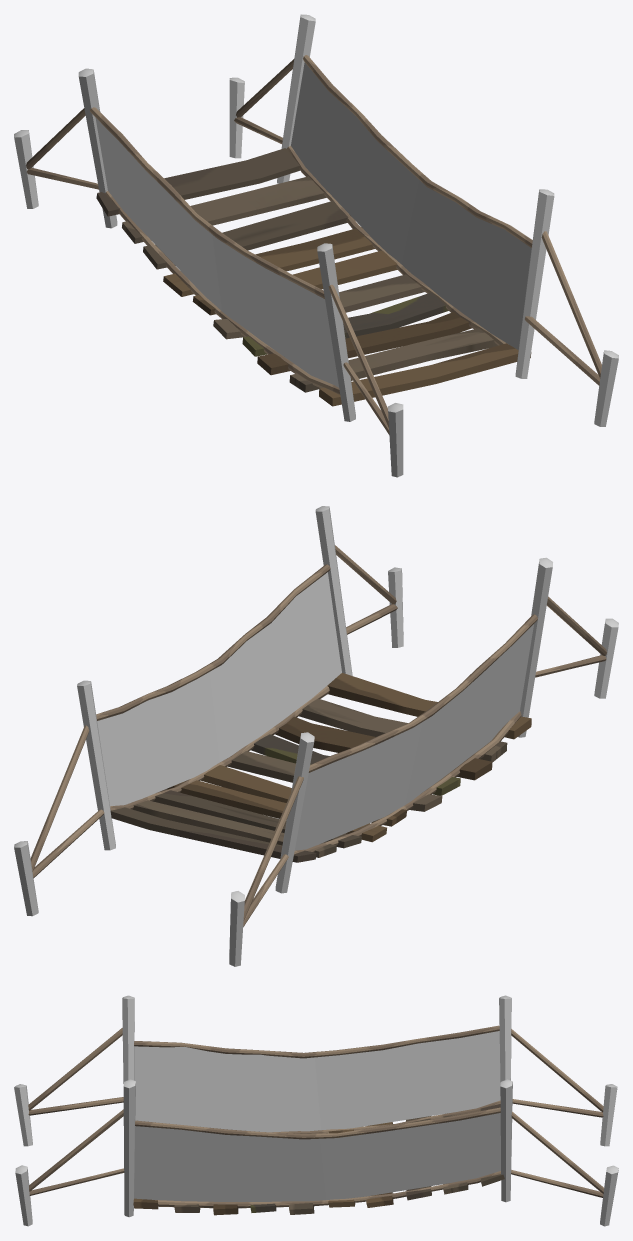
The model's file is SM_Bld_Ropebridge_04.fbx.
3 renders of one model, top to bottom at view 1: azimuth 30°, elevation 25°; view 2: azimuth 150°, elevation 25°; view 3: azimuth 270°, elevation 25°, orthographic. The views are drawn at different scales.
Parts seen in each view (by area): view 1: SM_Bld_Ropebridge_04; view 2: SM_Bld_Ropebridge_04; view 3: SM_Bld_Ropebridge_04.
Boxes of the visible parts, bbox=[...] form: SM_Bld_Ropebridge_04: bbox=[14, 14, 618, 477]; SM_Bld_Ropebridge_04: bbox=[14, 506, 618, 966]; SM_Bld_Ropebridge_04: bbox=[14, 995, 618, 1226].
Bounding box in the file's own units: 258 × 193 × 721.
